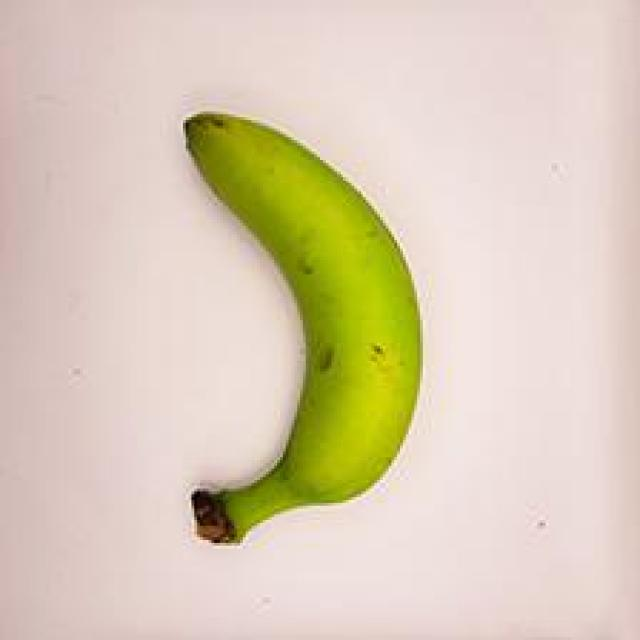Unripe: (121, 104, 464, 551)
